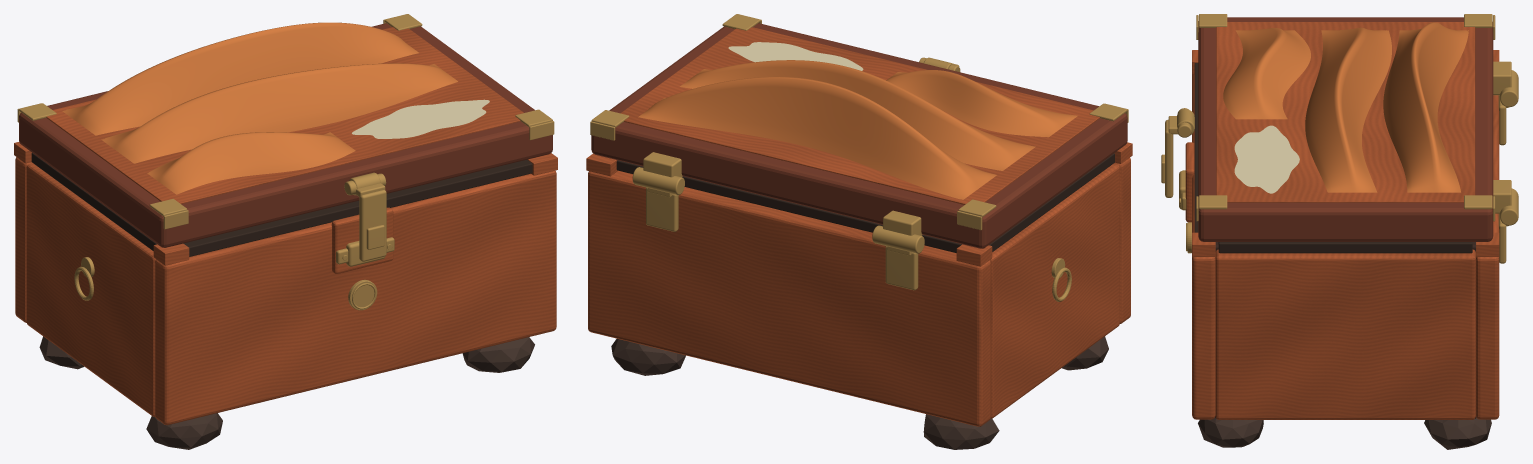
The model's file is namibia.glb.
3 renders of one model, left to right at view 1: azimuth 30°, elevation 25°; view 2: azimuth 150°, elevation 25°; view 3: azimuth 270°, elevation 25°, orthographic.
Visible parts, largest first — view 1: Sand body / front, Lid / polished slab, Sand body / side, Dune ridge / 2, Dune ridge / 3, Lid / sand field, Dune ridge / 1, Mineral seam / long, Playa / ivory basin, Sand body / rear, Mineral foot, Mineral foot.002 (+6 smaller); view 2: Sand body / rear, Lid / polished slab, Sand body / side, Dune ridge / 3, Lid / sand field, Dune ridge / 2, Dune ridge / 1, Mineral seam / long.001, Sand body / front, Mineral foot.001, Mineral foot.003, Playa / ivory basin (+10 smaller); view 3: Sand body / side.001, Lid / sand field, Lid / polished slab, Dune ridge / 2, Dune ridge / 3, Dune ridge / 1, Sand body / rear, Sand body / front, Playa / ivory basin, Mineral seam / side.001, Mineral foot.003, Mineral foot.002 (+13 smaller).
Boxes of the visible parts, <box> form: Sand body / front: <box>155,170,556,425</box>; Lid / polished slab: <box>19,23,552,247</box>; Sand body / side: <box>26,163,155,416</box>; Dune ridge / 2: <box>101,63,457,163</box>; Dune ridge / 3: <box>62,22,418,135</box>; Lid / sand field: <box>46,27,523,203</box>; Dune ridge / 1: <box>147,132,355,194</box>; Mineral seam / long: <box>183,159,532,256</box>; Playa / ivory basin: <box>352,99,489,138</box>; Sand body / rear: <box>15,157,32,322</box>; Mineral foot: <box>146,413,222,449</box>; Mineral foot.002: <box>462,337,534,372</box>; Sand body / rear: <box>588,170,990,426</box>; Lid / polished slab: <box>591,23,1127,248</box>; Sand body / side: <box>990,163,1119,418</box>; Dune ridge / 3: <box>638,76,996,199</box>; Lid / sand field: <box>620,27,1099,204</box>; Dune ridge / 2: <box>680,60,1035,170</box>; Dune ridge / 1: <box>886,70,1077,137</box>; Mineral seam / long.001: <box>616,160,961,252</box>; Sand body / front: <box>1114,158,1130,323</box>; Mineral foot.001: <box>923,414,999,449</box>; Mineral foot.003: <box>611,338,685,375</box>; Playa / ivory basin: <box>728,42,863,70</box>; Sand body / side.001: <box>1215,249,1475,419</box>; Lid / sand field: <box>1216,22,1475,202</box>; Lid / polished slab: <box>1198,17,1493,241</box>; Dune ridge / 2: <box>1305,27,1391,192</box>; Dune ridge / 3: <box>1383,22,1468,192</box>; Dune ridge / 1: <box>1223,28,1310,119</box>; Sand body / rear: <box>1476,95,1499,419</box>; Sand body / front: <box>1192,74,1215,419</box>; Playa / ivory basin: <box>1234,125,1299,193</box>; Mineral seam / side.001: <box>1218,242,1472,253</box>; Mineral foot.003: <box>1424,417,1491,449</box>; Mineral foot.002: <box>1198,418,1263,447</box>.
Bounding box in the file's own units: 3.79 × 2.81 × 2.88.
8 materials, 1 textured.
